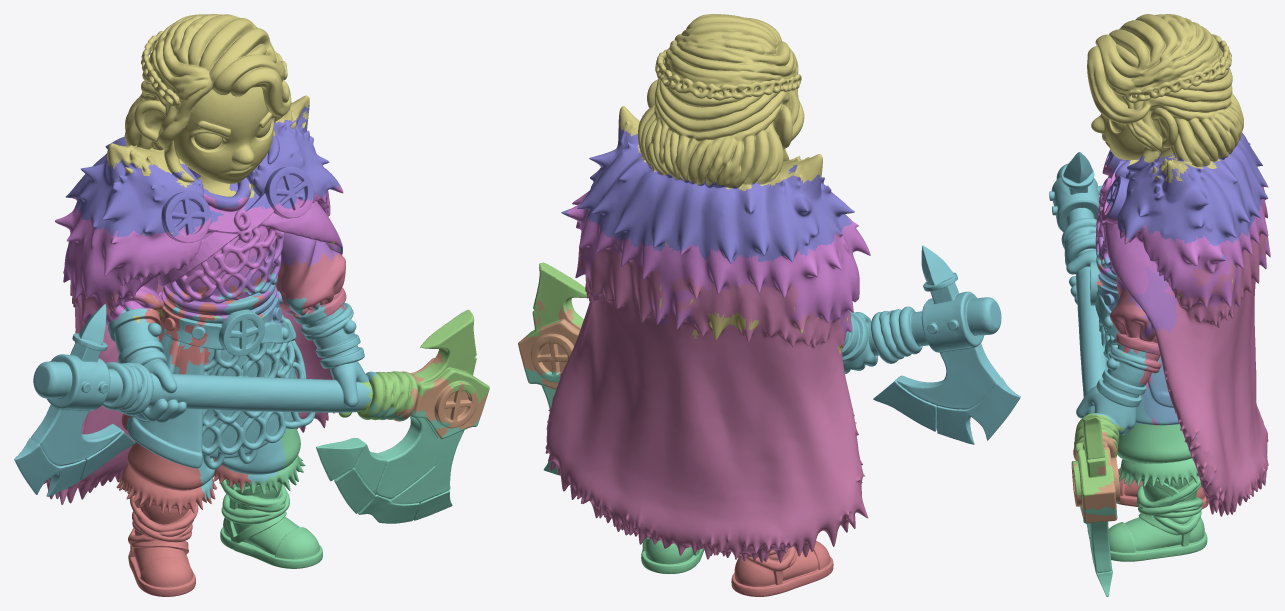
Rendered from parts_preview.glb.
3 renders of one model, left to right at view 1: azimuth 30°, elevation 25°; view 2: azimuth 150°, elevation 25°; view 3: azimuth 270°, elevation 25°, orthographic. The views are drawn at different scales.
Visible parts, largest first — view 1: Female_Warrior; view 2: Female_Warrior; view 3: Female_Warrior.
Boxes of the visible parts, x1,y1,x2,y2 form: Female_Warrior: (14, 14, 489, 596); Female_Warrior: (518, 14, 1020, 596); Female_Warrior: (1049, 14, 1270, 596).
Size of the model in its own units: 0.8947 by 0.9577 by 0.3827.
